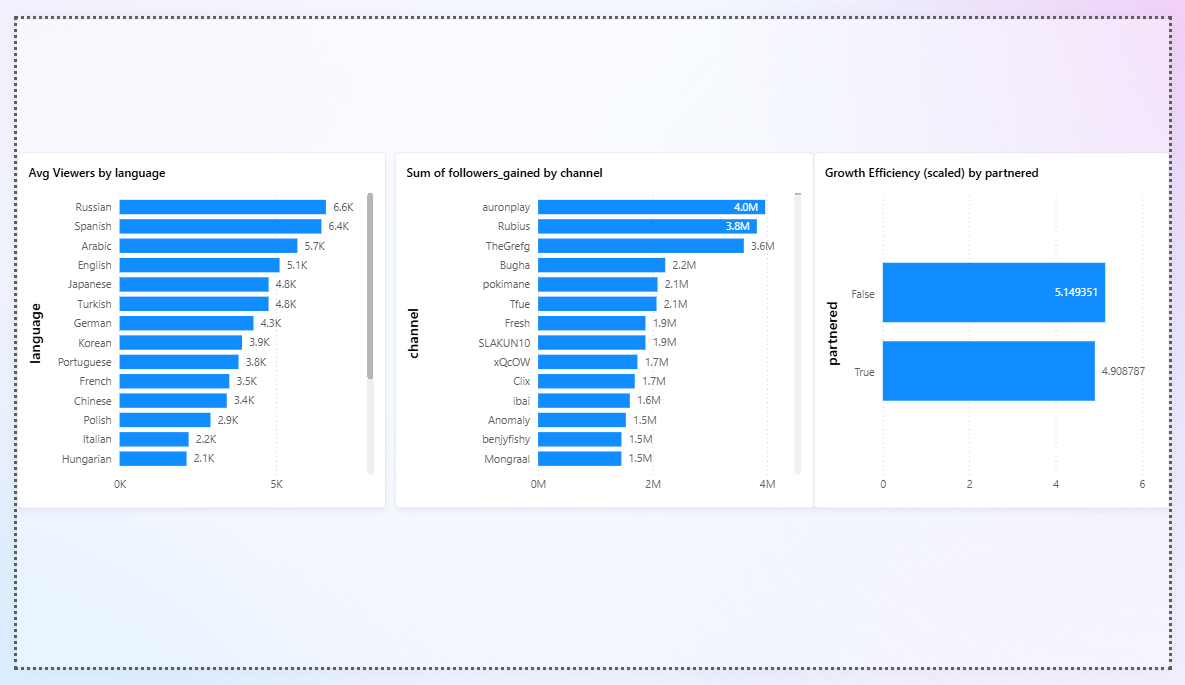

The page's visual inventory and layout, read from the dashboard file:
{"tool":"powerbi","page":{"name":"Content type analysis","canvas":[1280,720],"ordinal":1},"visuals":[{"type":"barChart","fields":{"Y":["streamers21.Avg Viewers"],"Category":["streamers21.language"]},"box":[0,148.3,410,395],"z":0},{"type":"barChart","fields":{"Category":["streamers21.partnered"],"Y":["streamers21.Growth Efficiency"]},"box":[885,148.3,395,395],"z":1},{"type":"barChart","fields":{"Category":["streamers21.channel"],"Y":["Sum(streamers21.followers_gained)"]},"box":[420,148.3,465,395],"z":2}]}

Visuals, with their boxes in screenshot pixels (x1, y1, x2, y2), scaled from the page's 1280x720 canvas onto the 1185x685 screenshot:
barChart - streamers21.Avg Viewers x streamers21.language: x1=0 y1=141 x2=380 y2=517
barChart - streamers21.partnered x streamers21.Growth Efficiency: x1=819 y1=141 x2=1184 y2=517
barChart - streamers21.channel x Sum(streamers21.followers_gained): x1=389 y1=141 x2=819 y2=517
